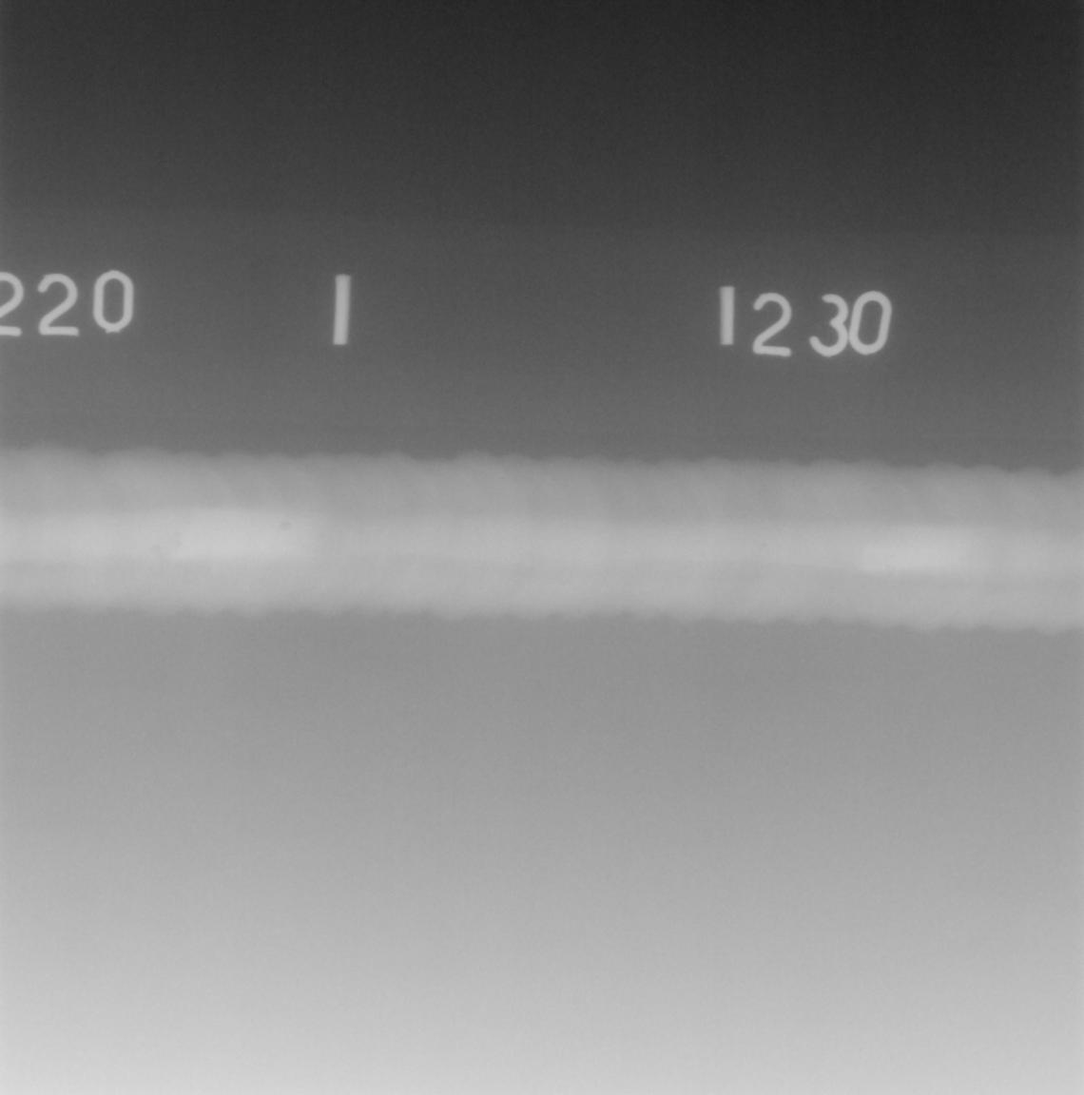Pore/Porosity: (282, 520, 290, 529), (153, 543, 161, 551), (762, 543, 766, 547)
